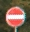No entry: (6, 6, 25, 27)
